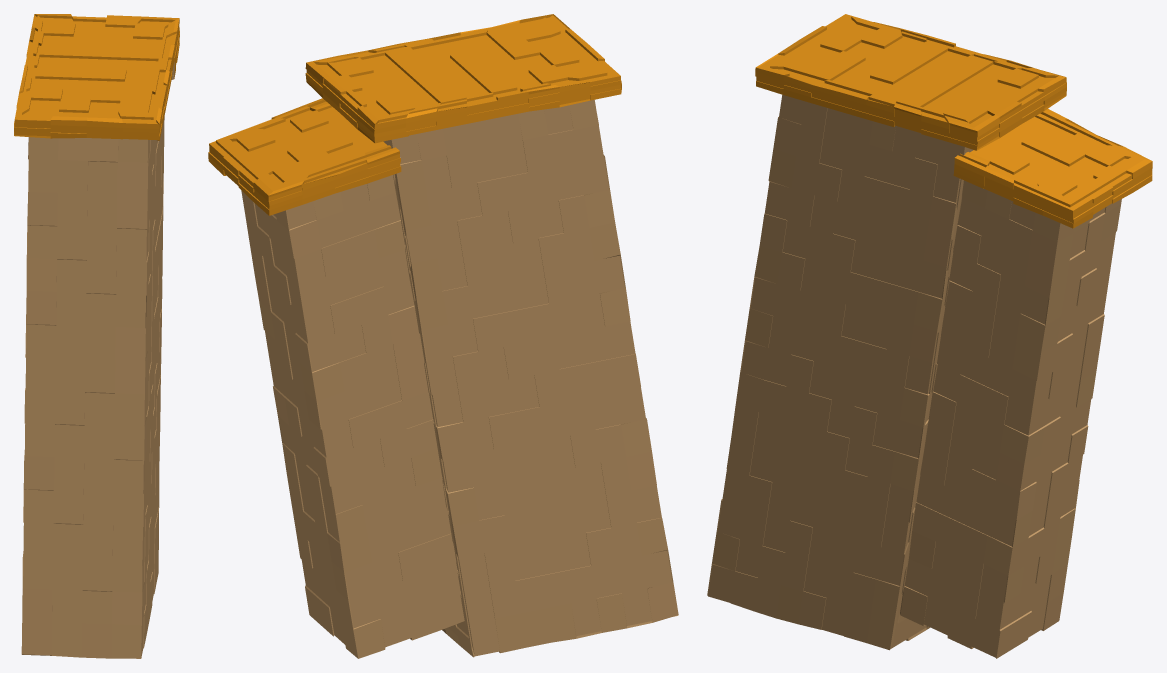
File: Apartment_Building_10.fbx
The picture shows the model from 3 angles, left to right: view 1: azimuth 30°, elevation 25°; view 2: azimuth 150°, elevation 25°; view 3: azimuth 270°, elevation 25°; orthographic projection. The views are drawn at different scales.
Visible parts, largest first — view 1: Cube.609; view 2: Cube.609; view 3: Cube.609.
Part boxes in pixels (bbox=[...]): Cube.609: bbox=[14, 14, 179, 658]; Cube.609: bbox=[208, 14, 678, 658]; Cube.609: bbox=[707, 14, 1152, 658].
Bounding box in the file's own units: 2021 × 3379 × 2460.
